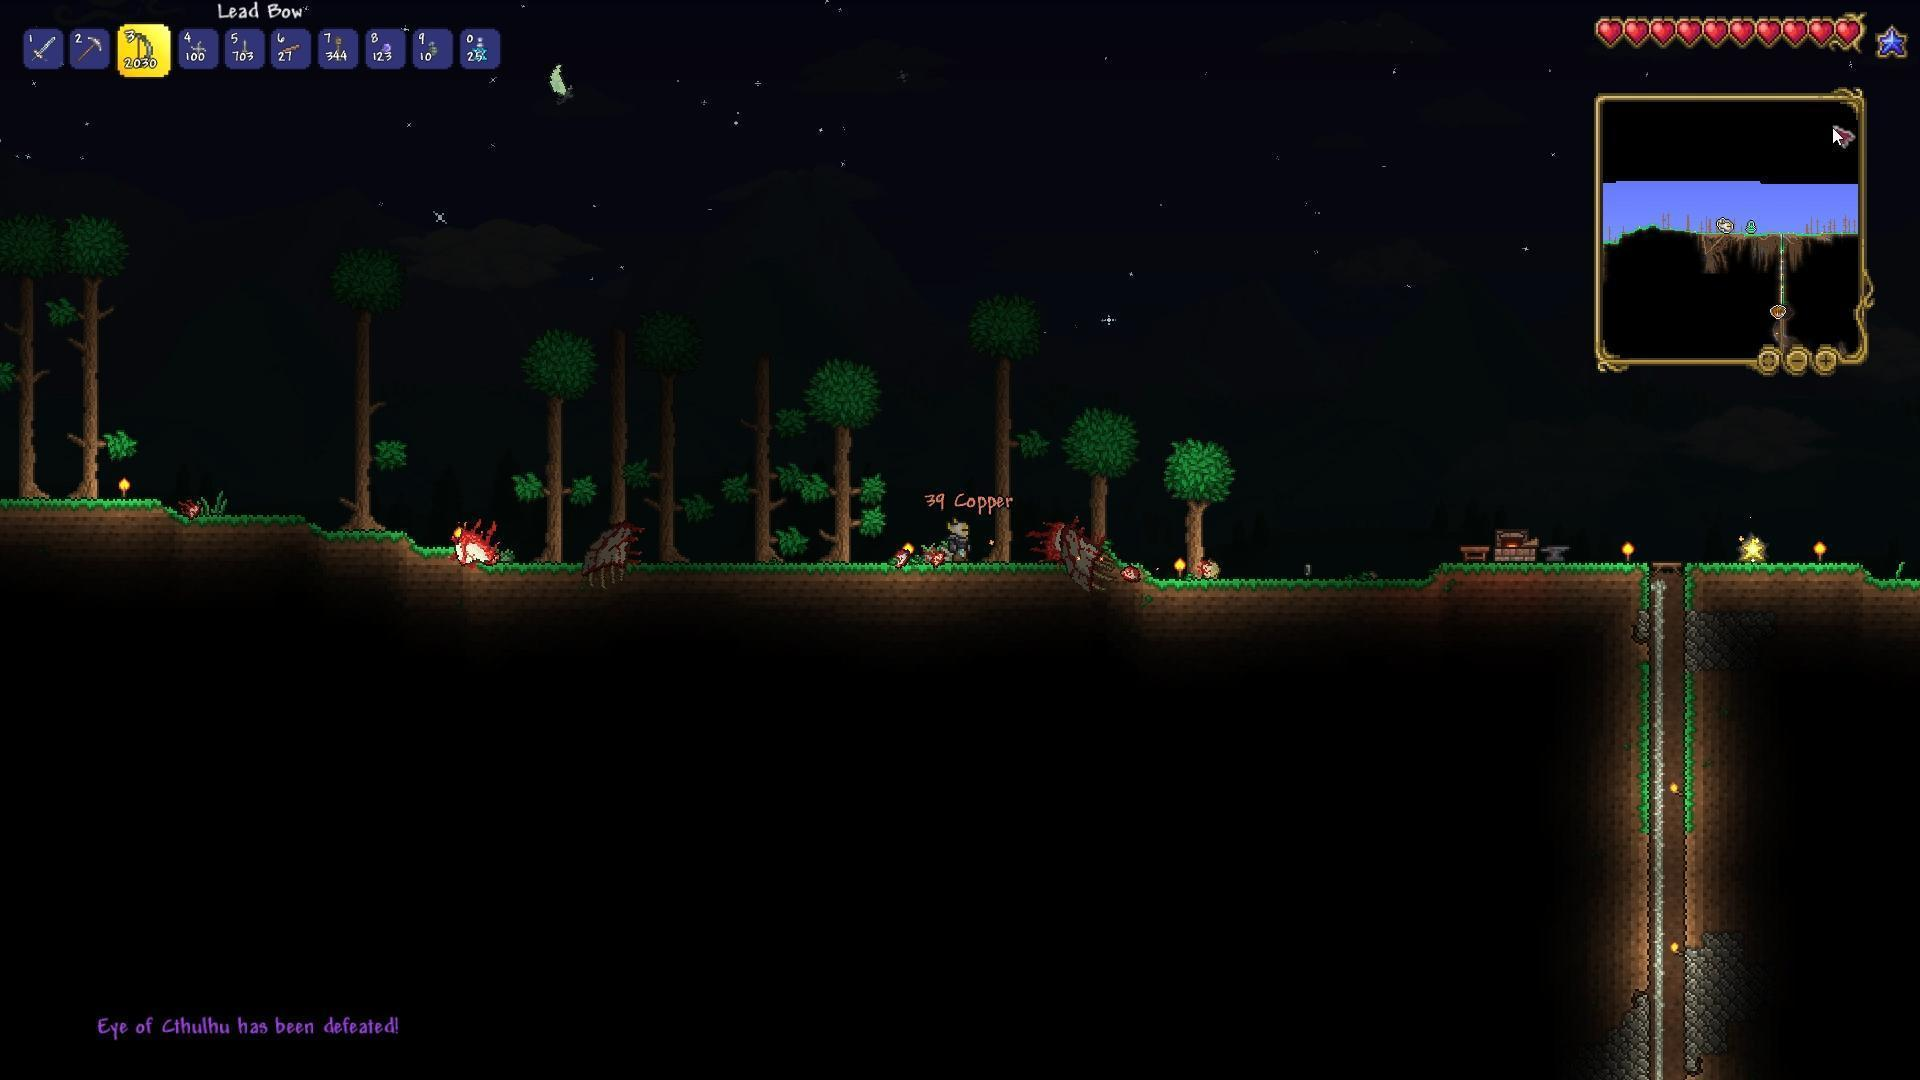anvil: (1542, 538, 1577, 563)
bow: (129, 29, 156, 69)
furnace: (1487, 521, 1543, 564)
grenade: (425, 38, 438, 58)
knife: (240, 38, 251, 61)
pickaxe: (74, 34, 107, 65)
platform: (277, 40, 302, 58)
recallP: (471, 37, 489, 63)
rope: (330, 33, 344, 62)
shuriken: (189, 40, 207, 55)
star: (1737, 530, 1767, 566)
sword: (29, 36, 55, 62)
workbench: (1461, 542, 1493, 563)
